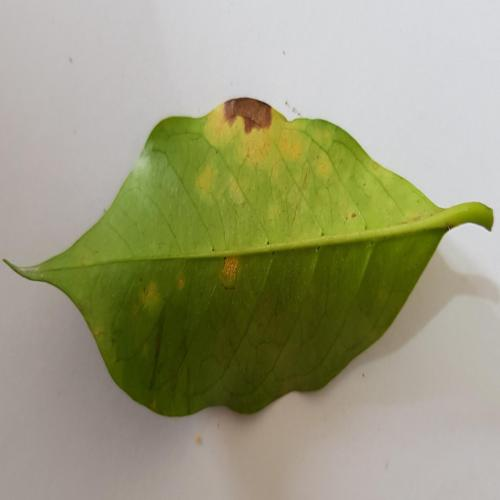phoma: (206, 98, 303, 178)
